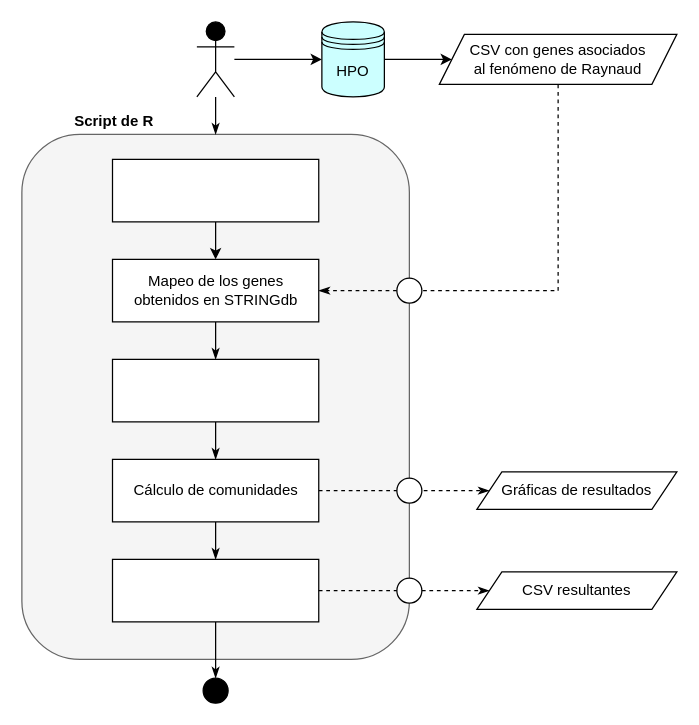
The diagram is 699 pixels wide and 725 high, and some of its shapes have lost their labels. Each missing label, with the box of its shape:
Conexión con STRINGdb: (111, 158, 319, 222)
Enriquecimiento funcional: (111, 558, 319, 622)
Obtención de nodos vecinos: (111, 358, 319, 422)
